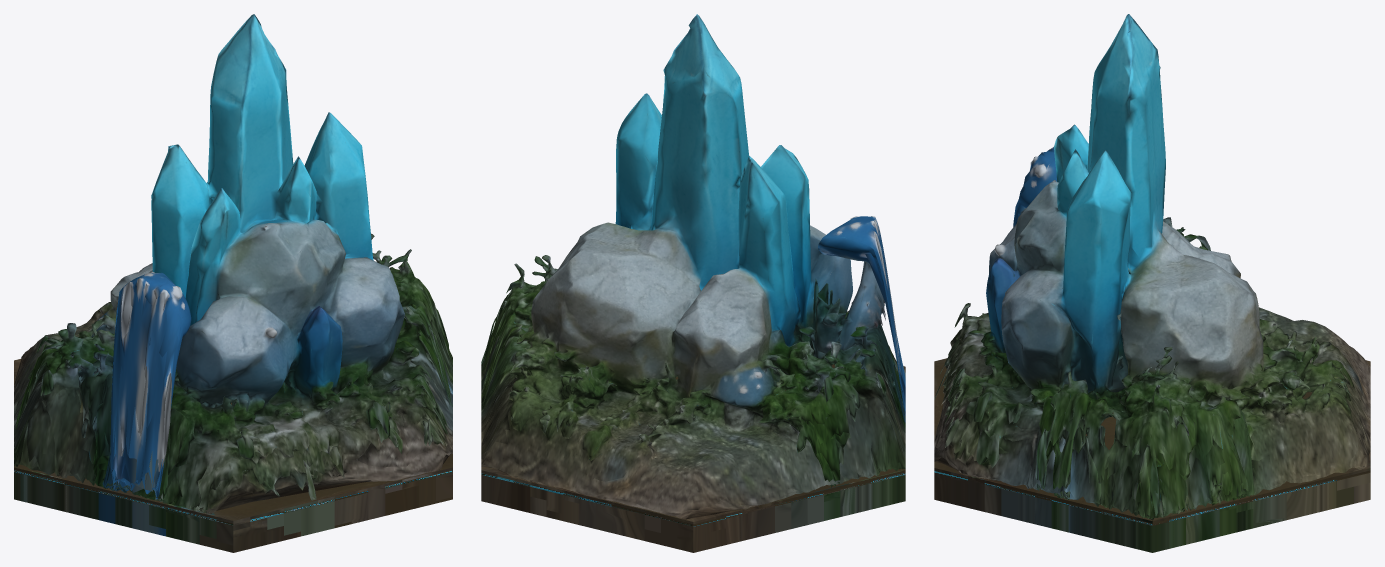
The model's file is hex_mystical_grove.glb.
The picture shows the model from 3 angles, left to right: view 1: azimuth 30°, elevation 25°; view 2: azimuth 150°, elevation 25°; view 3: azimuth 270°, elevation 25°; orthographic projection. The views are drawn at different scales.
Parts seen in each view (by area): view 1: hex_mystical_grove_s7_fit; view 2: hex_mystical_grove_s7_fit; view 3: hex_mystical_grove_s7_fit.
Part boxes in pixels (<box>): hex_mystical_grove_s7_fit: <box>14,14,452,552</box>; hex_mystical_grove_s7_fit: <box>481,14,905,552</box>; hex_mystical_grove_s7_fit: <box>934,14,1370,552</box>.
Bounding box in the file's own units: 5.11 × 4.88 × 4.42.
Materials: 1 (1 with a texture image).
